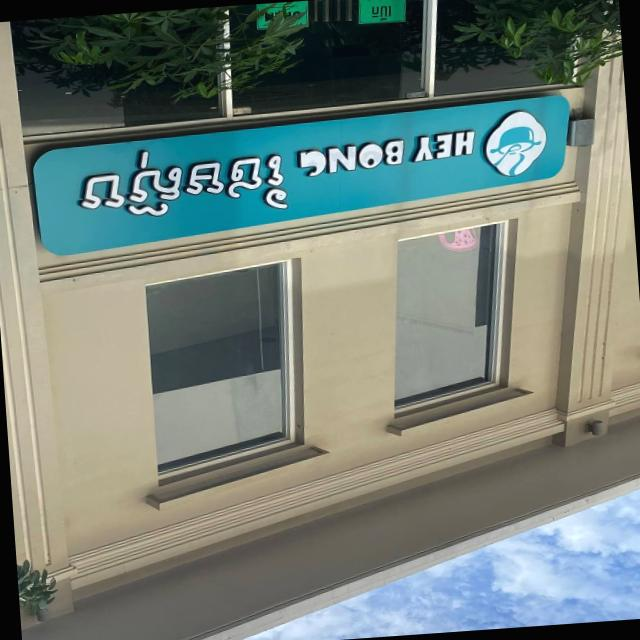Yolov11_80vkh: (65, 131, 299, 240)
